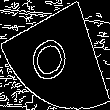O_NE: (30, 24, 80, 86)
